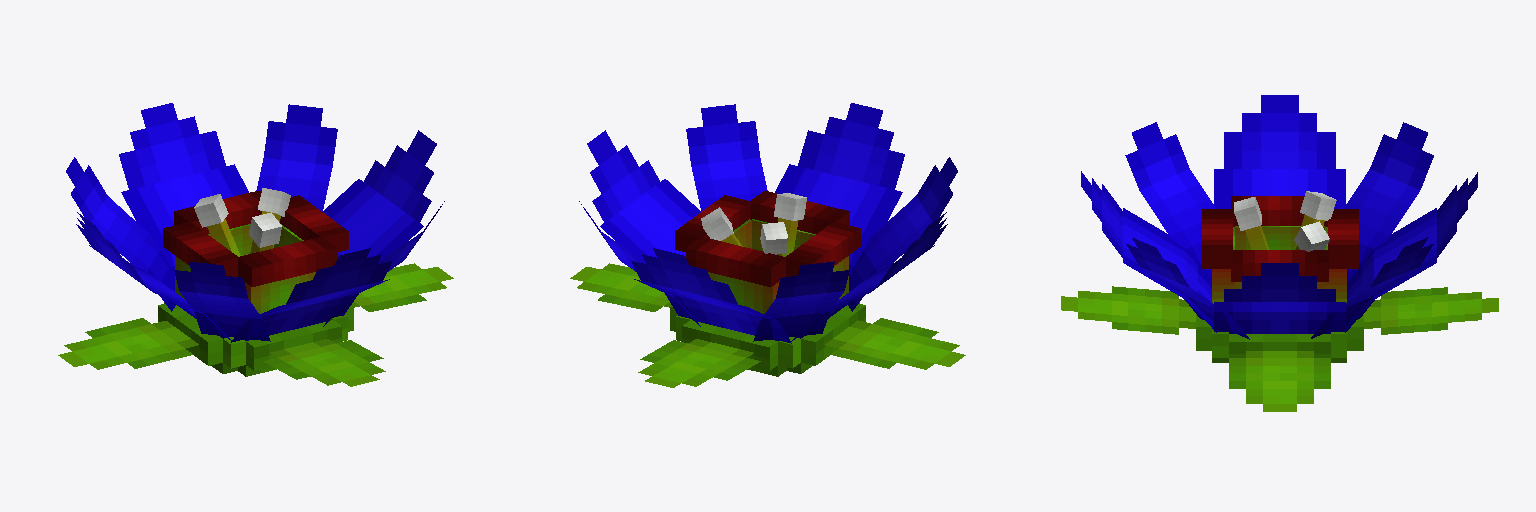
3 views of the same model, side by side, from view 1: azimuth 30°, elevation 25°; view 2: azimuth 150°, elevation 25°; view 3: azimuth 270°, elevation 25° (orthographic).
Visible parts, largest first — view 1: thingy, subpetal, base, leaf, petal3, petal, leaf2, subpetal3, subsmall_petal, leaf3, subpetal2, sp (+13 smaller); view 2: thingy, subpetal2, base, leaf, petal3, petal2, leaf4, subpetal3, subsmall_petal4, sp4, leaf3, subpetal (+13 smaller); view 3: thingy, subpetal4, leaf3, leaf2, leaf4, base, petal4, sp3, sp2, subpetal3, subsmall_petal3, subsmall_petal2 (+13 smaller).
Boxes of the visible parts, x1=… form: thingy: x1=163, y1=190, x2=348, y2=313; subpetal: x1=119, y1=103, x2=225, y2=189; base: x1=158, y1=302, x2=353, y2=376; leaf: x1=58, y1=318, x2=198, y2=369; petal3: x1=323, y1=179, x2=423, y2=260; petal: x1=121, y1=164, x2=248, y2=249; leaf2: x1=263, y1=339, x2=385, y2=386; subpetal3: x1=364, y1=130, x2=436, y2=222; subsmall_petal: x1=264, y1=104, x2=337, y2=165; leaf3: x1=352, y1=263, x2=453, y2=311; subpetal2: x1=286, y1=248, x2=392, y2=303; sp: x1=256, y1=158, x2=332, y2=211; thingy: x1=675, y1=191, x2=860, y2=313; subpetal2: x1=798, y1=103, x2=904, y2=189; base: x1=670, y1=302, x2=865, y2=376; leaf: x1=825, y1=318, x2=965, y2=369; petal3: x1=600, y1=179, x2=700, y2=260; petal2: x1=775, y1=164, x2=902, y2=249; leaf4: x1=638, y1=339, x2=760, y2=387; subpetal3: x1=587, y1=130, x2=659, y2=222; subsmall_petal4: x1=686, y1=104, x2=759, y2=165; sp4: x1=691, y1=158, x2=767, y2=211; leaf3: x1=570, y1=263, x2=670, y2=311; subpetal: x1=631, y1=248, x2=737, y2=303; thingy: x1=1202, y1=196, x2=1358, y2=303; subpetal4: x1=1224, y1=95, x2=1335, y2=168; leaf3: x1=1229, y1=351, x2=1330, y2=411; leaf2: x1=1061, y1=286, x2=1195, y2=334; leaf4: x1=1364, y1=287, x2=1498, y2=334; base: x1=1196, y1=314, x2=1363, y2=362; petal4: x1=1214, y1=169, x2=1345, y2=208; sp3: x1=1139, y1=169, x2=1215, y2=248; sp2: x1=1344, y1=169, x2=1419, y2=248; subpetal3: x1=1224, y1=263, x2=1335, y2=301; subsmall_petal3: x1=1125, y1=122, x2=1189, y2=189; subsmall_petal2: x1=1370, y1=122, x2=1433, y2=189.
Size of the model in its own units: 1.46 by 0.6301 by 1.46.
1 materials, 1 textured.